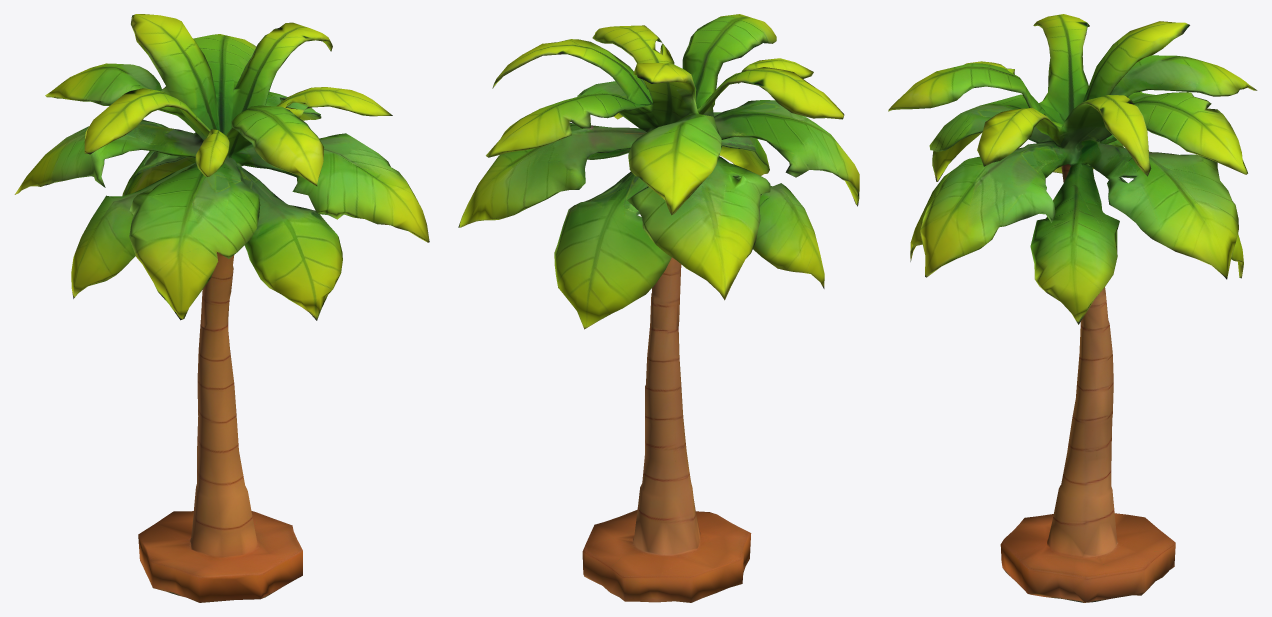
Rendered from palm_tropical.glb.
3 renders of one model, left to right at view 1: azimuth 30°, elevation 25°; view 2: azimuth 150°, elevation 25°; view 3: azimuth 270°, elevation 25°, orthographic.
Bounding box in the file's own units: 1.22 × 2 × 1.27.
1 material, 1 textured.
